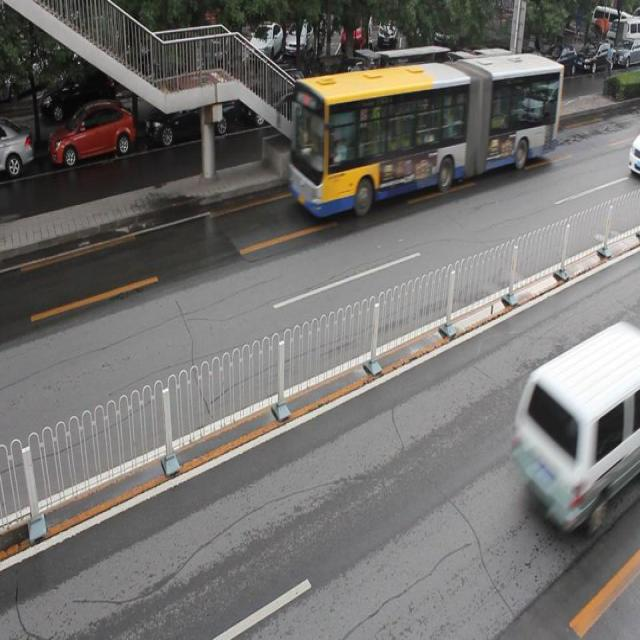car: (144, 88, 234, 152), (49, 102, 134, 169), (242, 68, 310, 130), (316, 61, 381, 123), (1, 124, 33, 179)
truck: (509, 316, 640, 534), (626, 130, 640, 178)
van: (274, 50, 565, 220)
